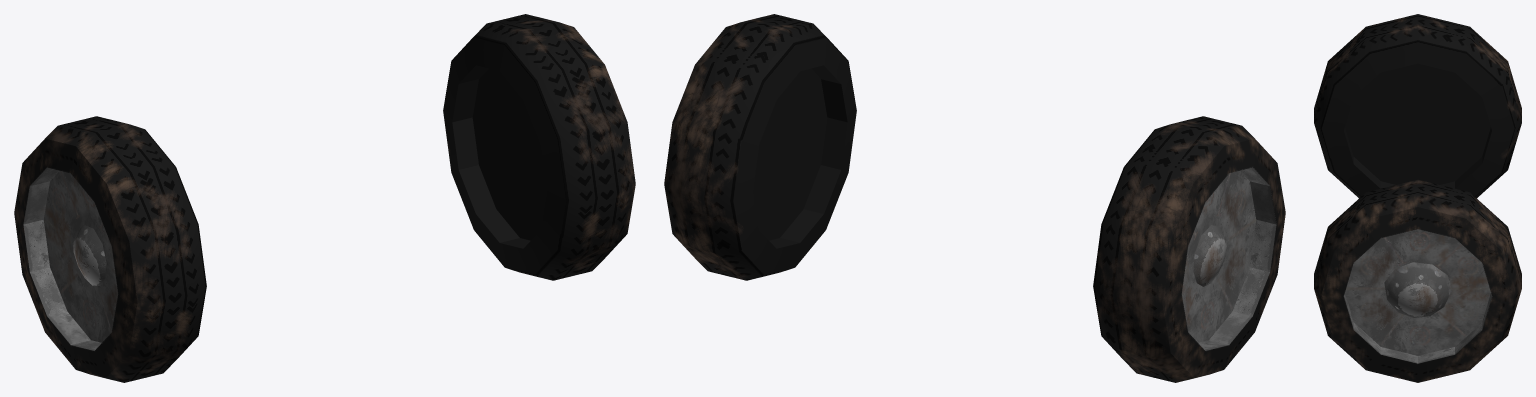
Rendered from LEG_TIRES.fbx.
3 views of the same model, side by side, from view 1: azimuth 30°, elevation 25°; view 2: azimuth 150°, elevation 25°; view 3: azimuth 270°, elevation 25° (orthographic). The views are drawn at different scales.
Parts seen in each view (by area): view 1: LEG_TIRE_RIGHT, LEG_TIRE_LEFT; view 2: LEG_TIRE_RIGHT, LEG_TIRE_LEFT; view 3: LEG_TIRE_LEFT, LEG_TIRE_RIGHT.
Part boxes in pixels (x1=…): LEG_TIRE_RIGHT: x1=14, y1=116, x2=206, y2=382; LEG_TIRE_LEFT: x1=443, y1=14, x2=635, y2=280; LEG_TIRE_RIGHT: x1=1093, y1=116, x2=1285, y2=382; LEG_TIRE_LEFT: x1=664, y1=14, x2=856, y2=280; LEG_TIRE_LEFT: x1=1314, y1=179, x2=1521, y2=382; LEG_TIRE_RIGHT: x1=1314, y1=14, x2=1521, y2=198.
Size of the model in its own units: 0.0465 by 0.0212 by 0.021.
